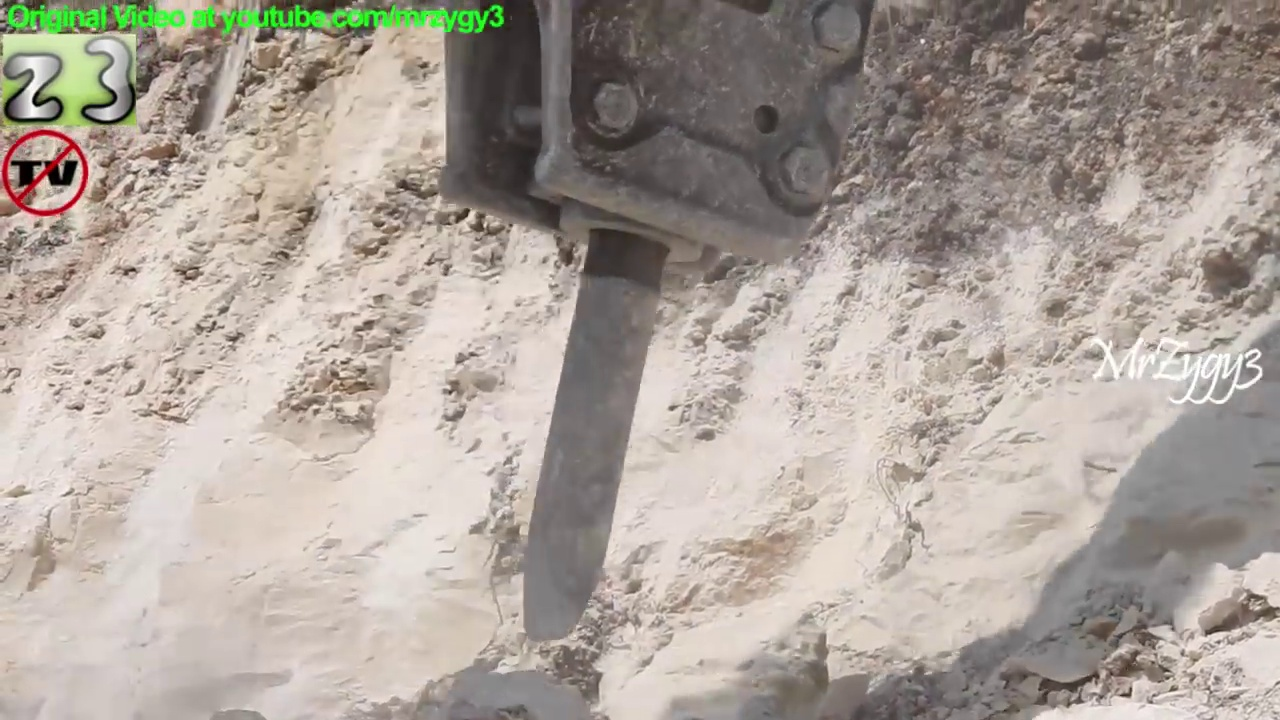excavator: (431, 1, 889, 662)
